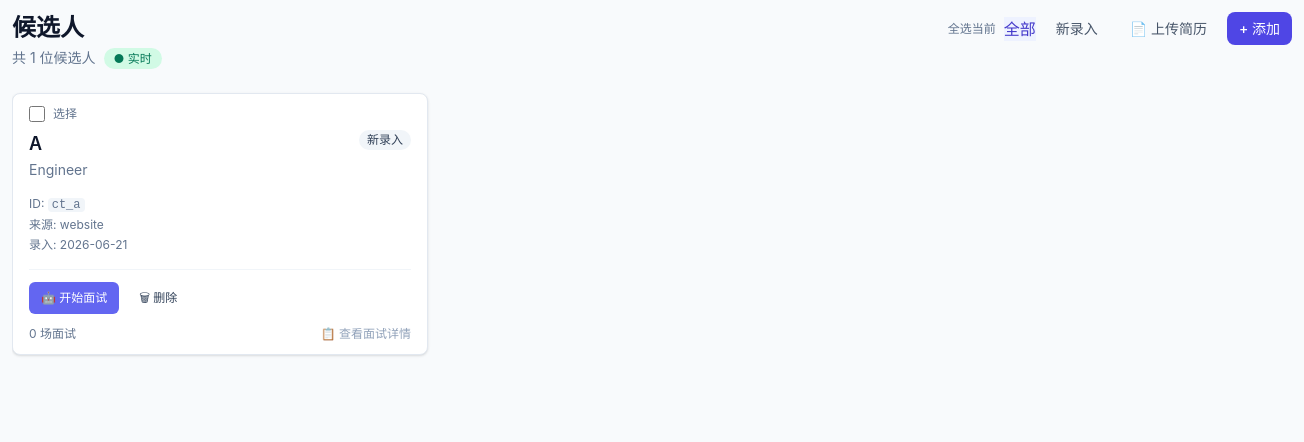
it: Candidates — multi-select + batch toolbar › "取消选择" clears the current selection
What coordinates should you click on to do the following:
click the checkbox with test id "candidate-checkbox-ct_a"
I would click on:
 (37, 114)
Its box is [29,106,45,122].
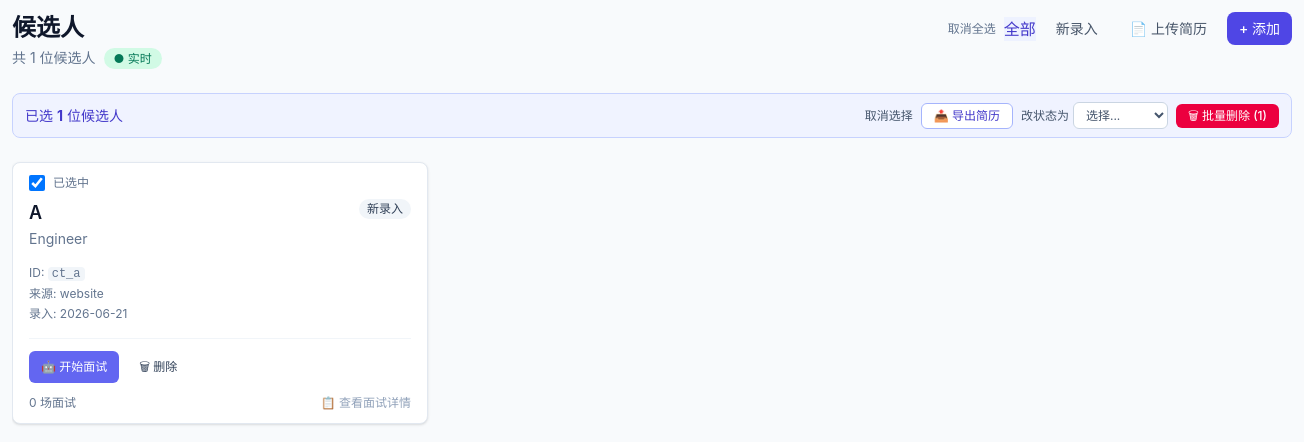
Result: the element with test id "batch-selected-count" shows "1" at [57,107,63,124]
What coordinates should you click on to do the following:
click the button with test id "batch-clear-selection"
I would click on:
 (889, 116)
Its box is [865,108,913,124].
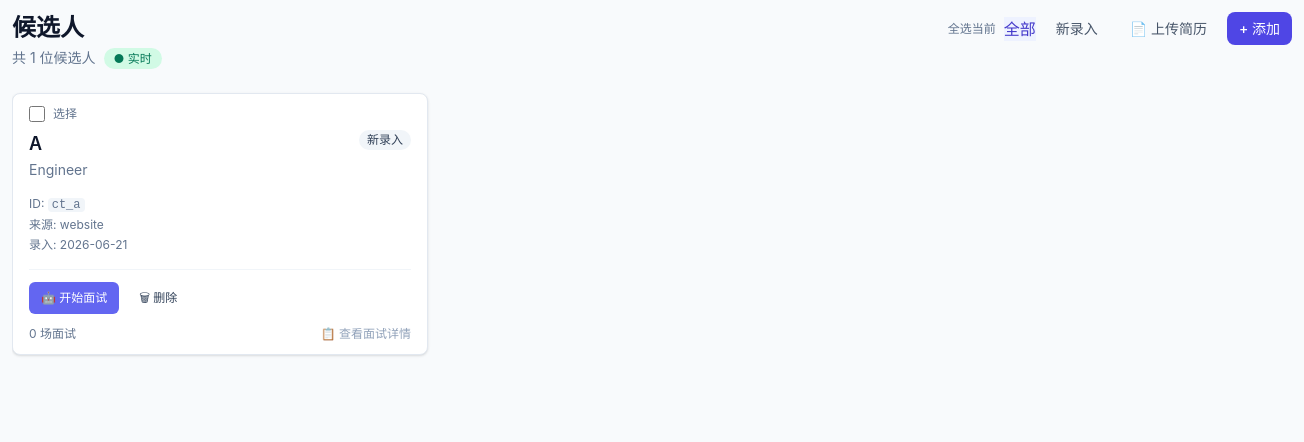
Result: the checkbox with test id "candidate-checkbox-ct_a" is not checked at [29,106,45,122]
Result: the element with test id "batch-action-toolbar" is gone
